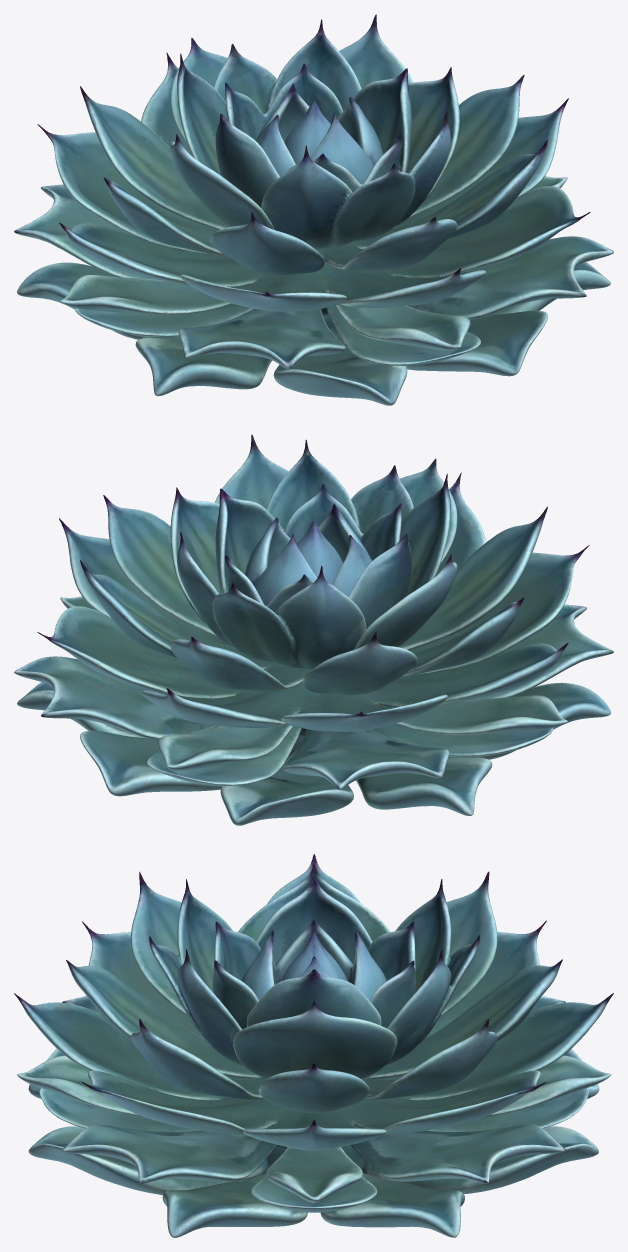
File: AgavePlant_1_Optimized.glb
3 views of the same model, one above another, from view 1: azimuth 30°, elevation 25°; view 2: azimuth 150°, elevation 25°; view 3: azimuth 270°, elevation 25° (orthographic).
Visible parts, largest first — view 1: mesh_node; view 2: mesh_node; view 3: mesh_node.
Part boxes in pixels (bbox=[...]): mesh_node: bbox=[14, 14, 613, 405]; mesh_node: bbox=[14, 434, 613, 825]; mesh_node: bbox=[14, 854, 613, 1237].
Bounding box in the file's own units: 1.9 × 0.9156 × 1.9.
1 material, 1 textured.
